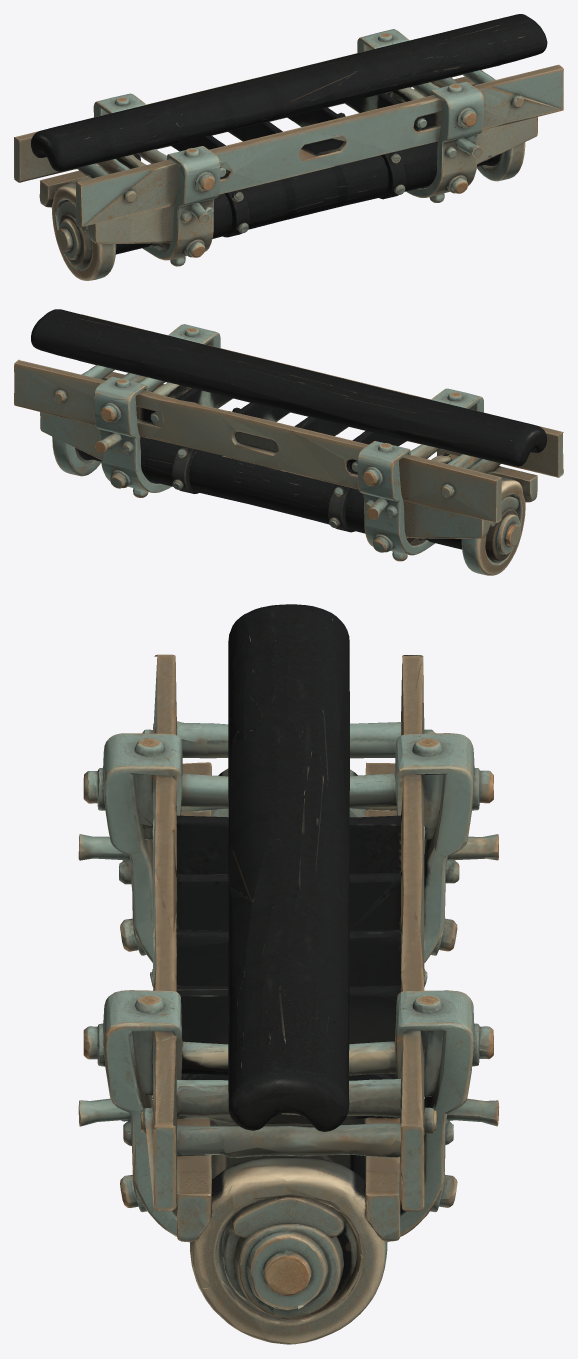
File: conveyor_belt_section.glb
3 renders of one model, top to bottom at view 1: azimuth 30°, elevation 25°; view 2: azimuth 150°, elevation 25°; view 3: azimuth 270°, elevation 25°, orthographic. The views are drawn at different scales.
Bounding box in the file's own units: 1.9 × 0.5591 × 0.7031.
1 material, 1 textured.
